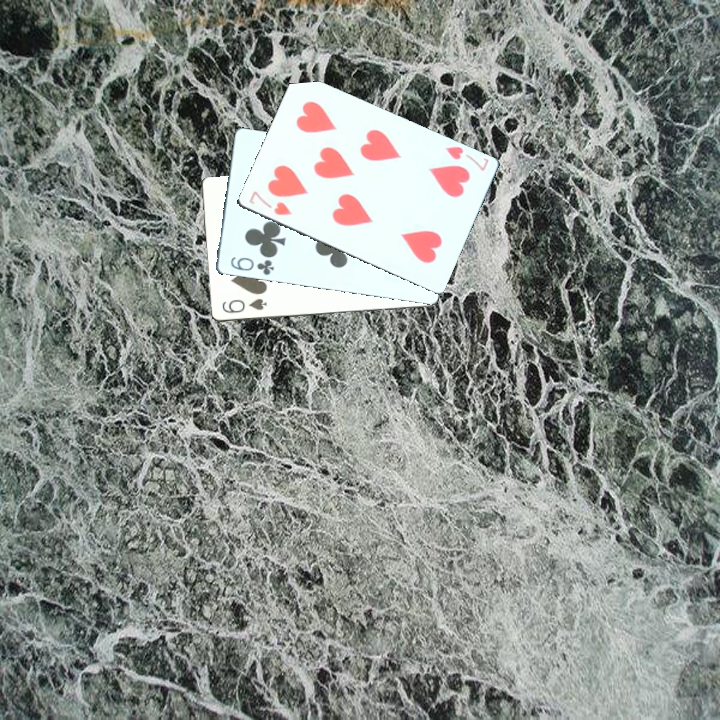6c: (226, 253, 277, 277)
6s: (218, 295, 269, 316)
7h: (441, 142, 491, 174), (245, 187, 295, 218)
